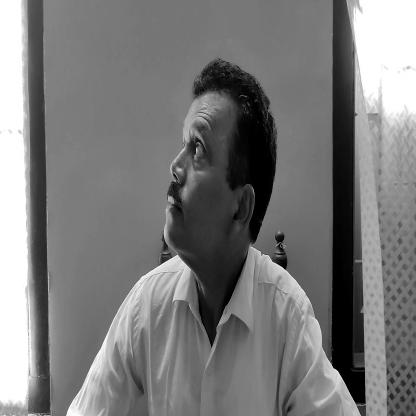Distracted: (166, 60, 279, 284)
